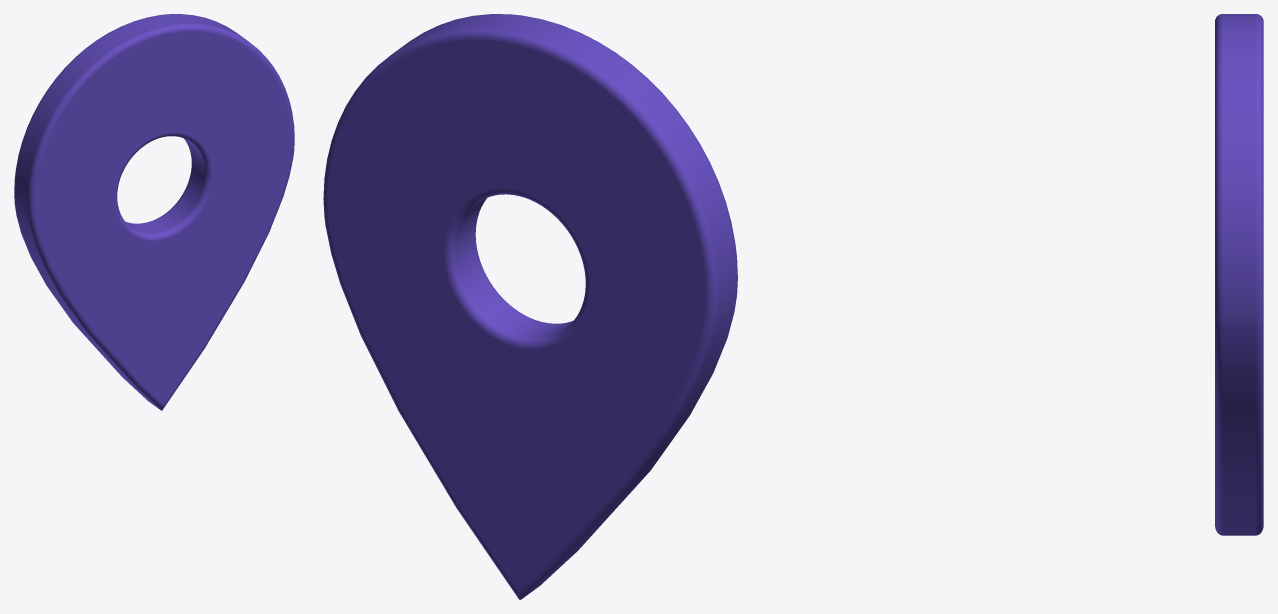
The model's file is pin.glb.
3 views of the same model, side by side, from view 1: azimuth 30°, elevation 25°; view 2: azimuth 150°, elevation 25°; view 3: azimuth 270°, elevation 25° (orthographic). The views are drawn at different scales.
Visible parts, largest first — view 1: ExtrudeShape_2_0; view 2: ExtrudeShape_2_0; view 3: ExtrudeShape_2_0.
Part boxes in pixels (<box>): ExtrudeShape_2_0: <box>14,14,294,410</box>; ExtrudeShape_2_0: <box>323,14,737,599</box>; ExtrudeShape_2_0: <box>1215,14,1263,535</box>.
Bounding box in the file's own units: 12.11 × 19.86 × 12.33.
